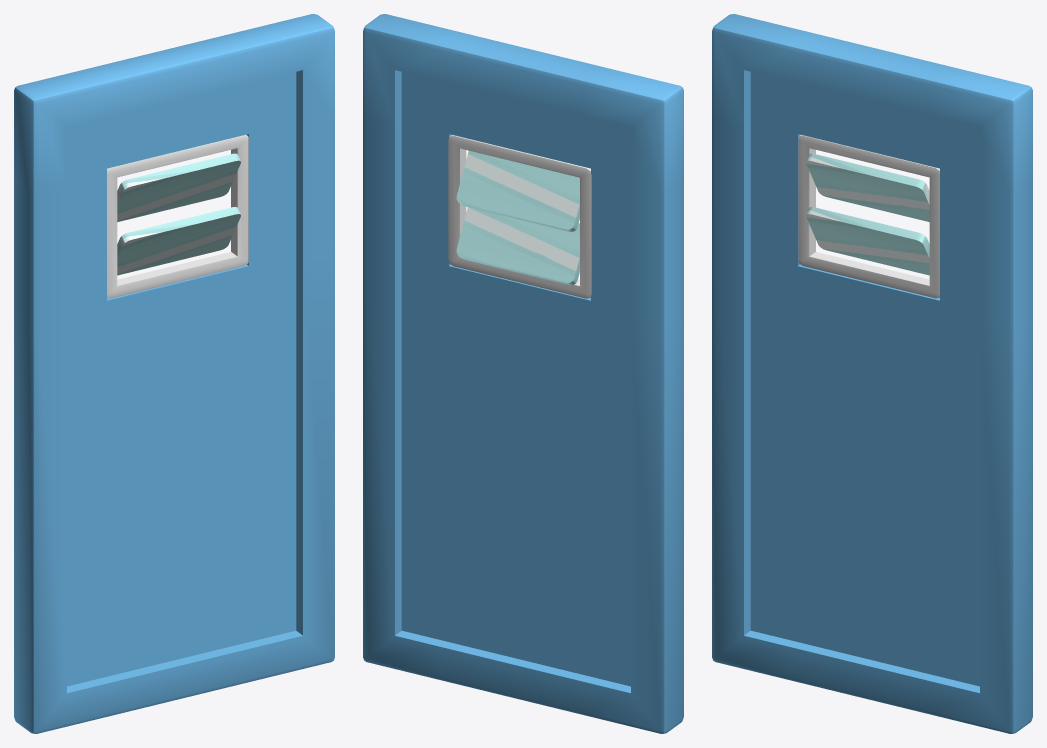
The model's file is Mod_Door_02.fbx.
3 renders of one model, left to right at view 1: azimuth 30°, elevation 25°; view 2: azimuth 150°, elevation 25°; view 3: azimuth 330°, elevation 25°, orthographic.
Parts seen in each view (by area): view 1: Mod_Door_02; view 2: Mod_Door_02; view 3: Mod_Door_02.
Boxes of the visible parts, bbox=[...] form: Mod_Door_02: bbox=[14, 14, 334, 733]; Mod_Door_02: bbox=[363, 14, 683, 733]; Mod_Door_02: bbox=[712, 14, 1032, 733].
Bounding box in the file's own units: 100 × 200 × 12.
